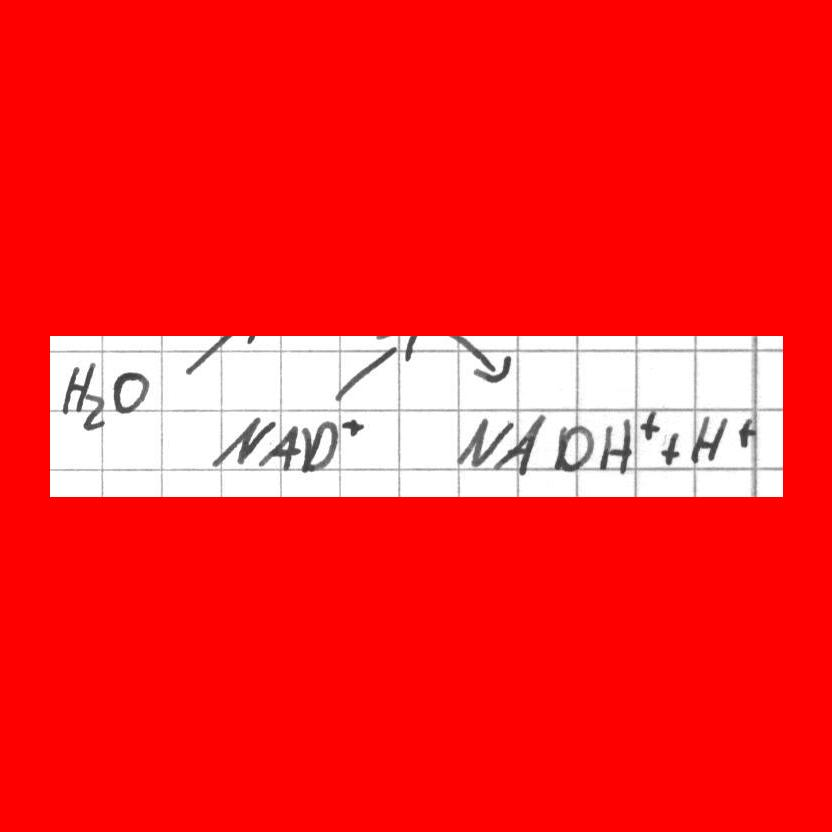Char: (211, 407, 273, 470), (454, 413, 513, 470), (500, 411, 549, 474), (550, 422, 598, 471), (258, 421, 300, 473), (688, 413, 730, 465), (298, 419, 339, 472), (597, 416, 634, 474), (109, 368, 153, 416), (62, 359, 95, 414), (82, 391, 108, 433), (658, 427, 683, 467), (638, 406, 660, 441), (341, 413, 369, 439), (734, 415, 755, 447)
